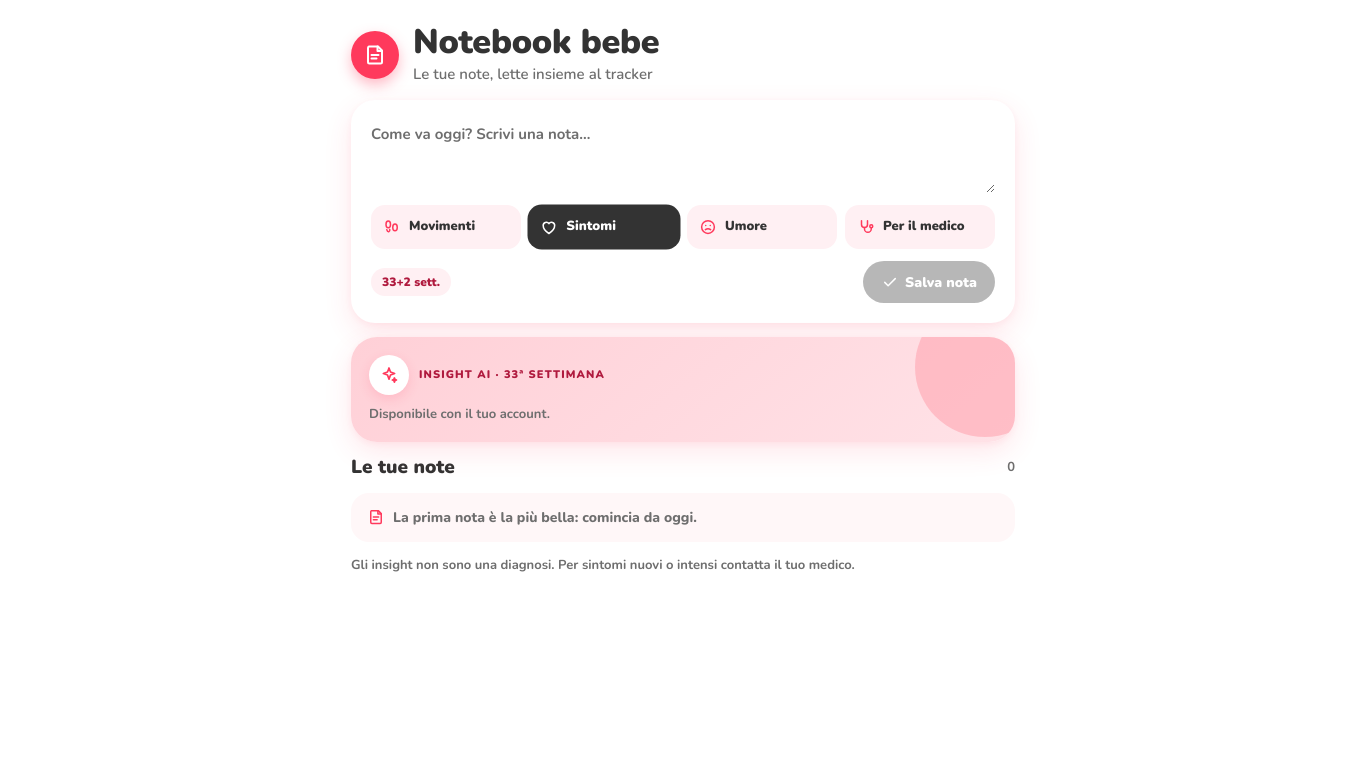
Test case: Riscontri (0.9.1) › salvare una nota mostra una notifica, eliminarla chiede conferma in stile app
The image size is (1366, 768).
Type "Bruciore di stomaco" into the text box named "Nuova nota" at (683, 157), box [371, 120, 995, 193]
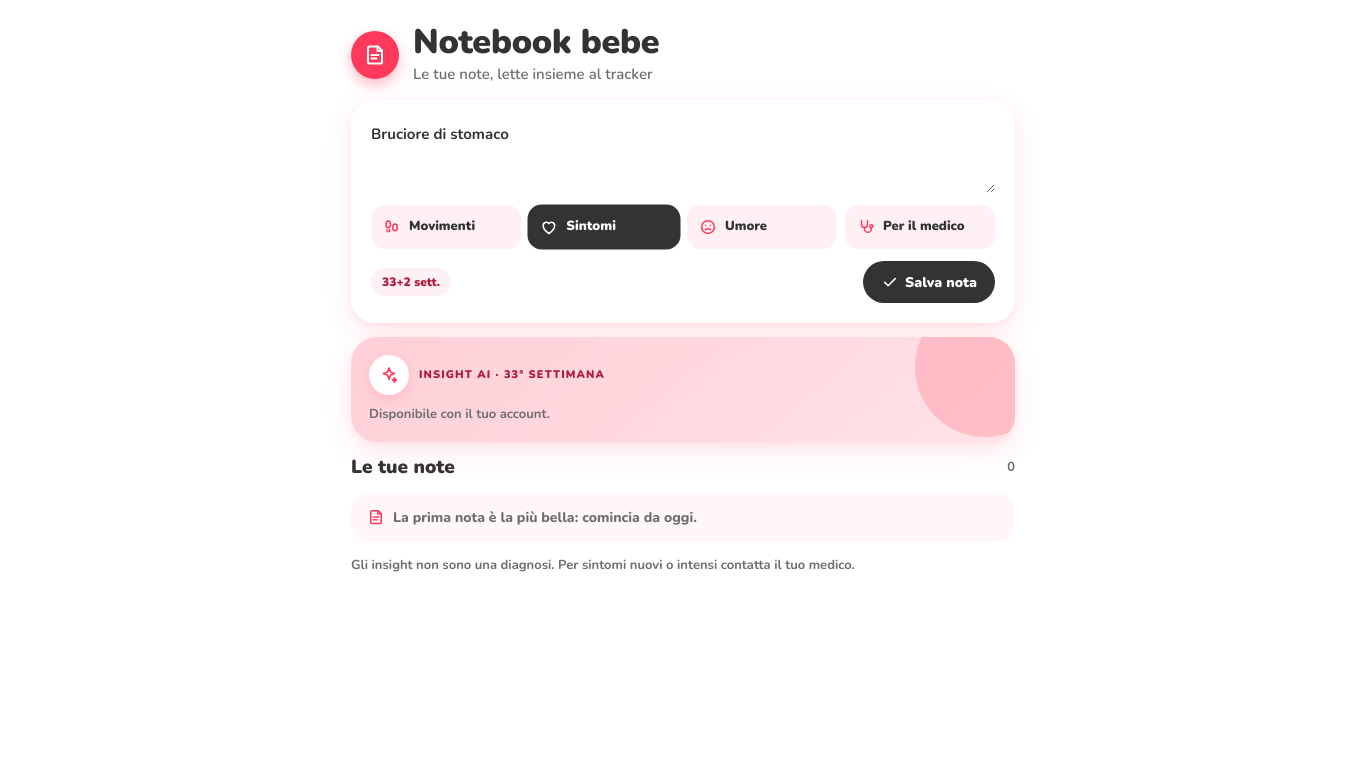
Click the button "Salva nota" at (929, 282), box [863, 261, 995, 303]
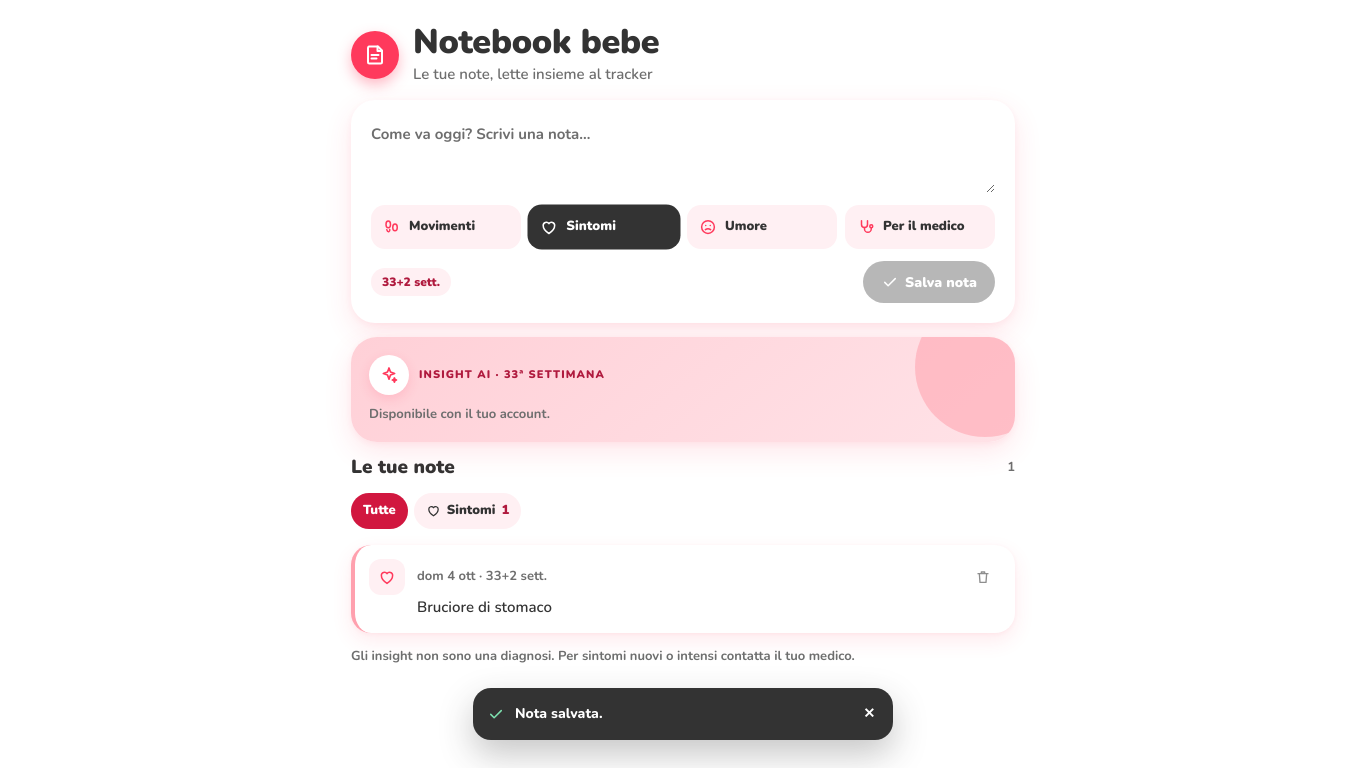
Expected: the text "Nota salvata." is shown, [515, 704, 602, 722]
Click the button named "Elimina nota" at (983, 577), box [965, 559, 1001, 595]
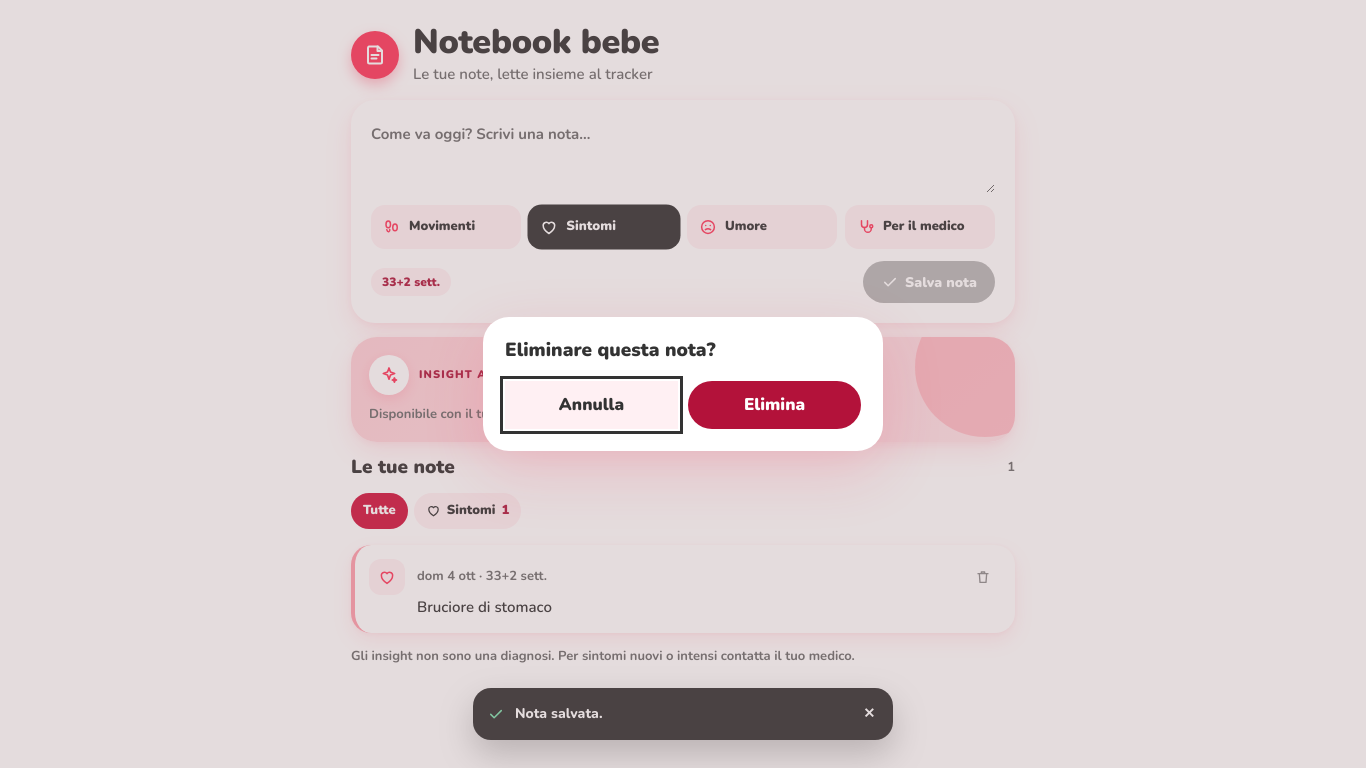
Click the button "Annulla" at (592, 405), box [505, 381, 678, 429]
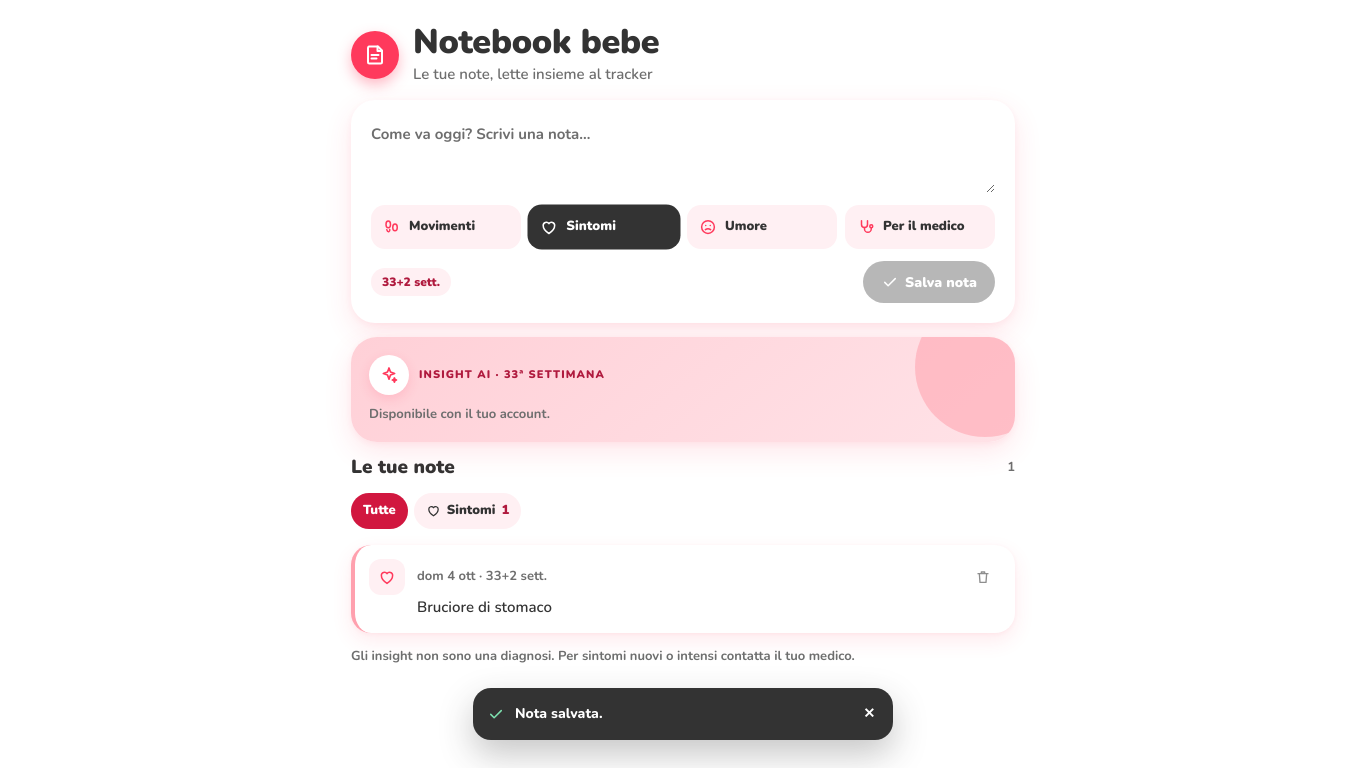
Expected: the text "Bruciore di stomaco" is shown, [417, 597, 552, 617]
Click the button named "Elimina nota" at (983, 577), box [965, 559, 1001, 595]
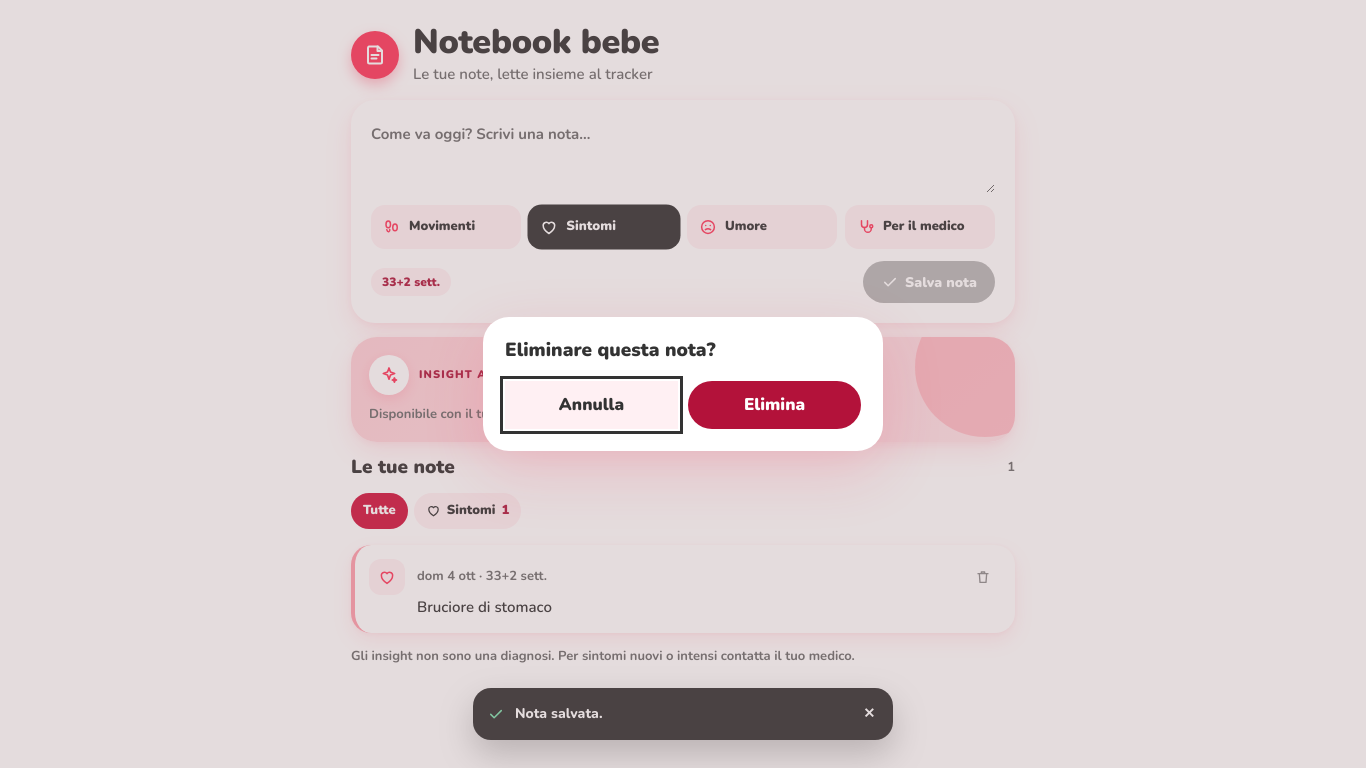
Click the button "Elimina" at (774, 405), box [688, 381, 861, 429]
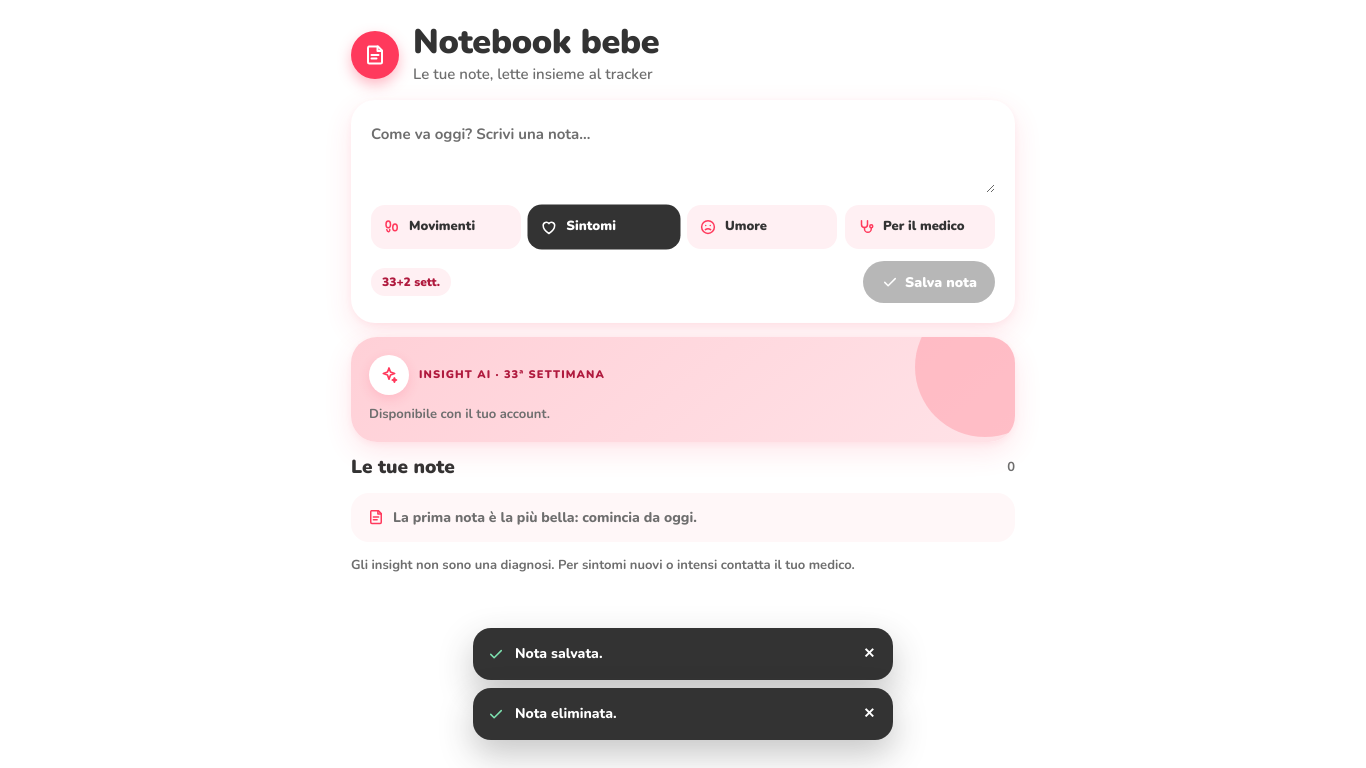
Expected: the text "Nota eliminata." is shown, [515, 704, 617, 722]
Expected: the text "Bruciore di stomaco" is gone
